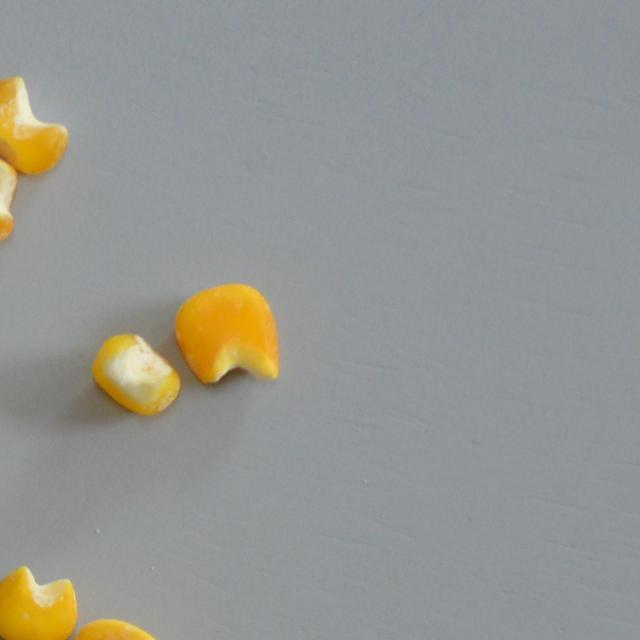no_canjicado: (174, 282, 278, 384), (0, 75, 68, 174), (0, 564, 76, 640)
pelicula: (92, 334, 178, 412), (64, 616, 168, 640), (0, 154, 18, 245)
